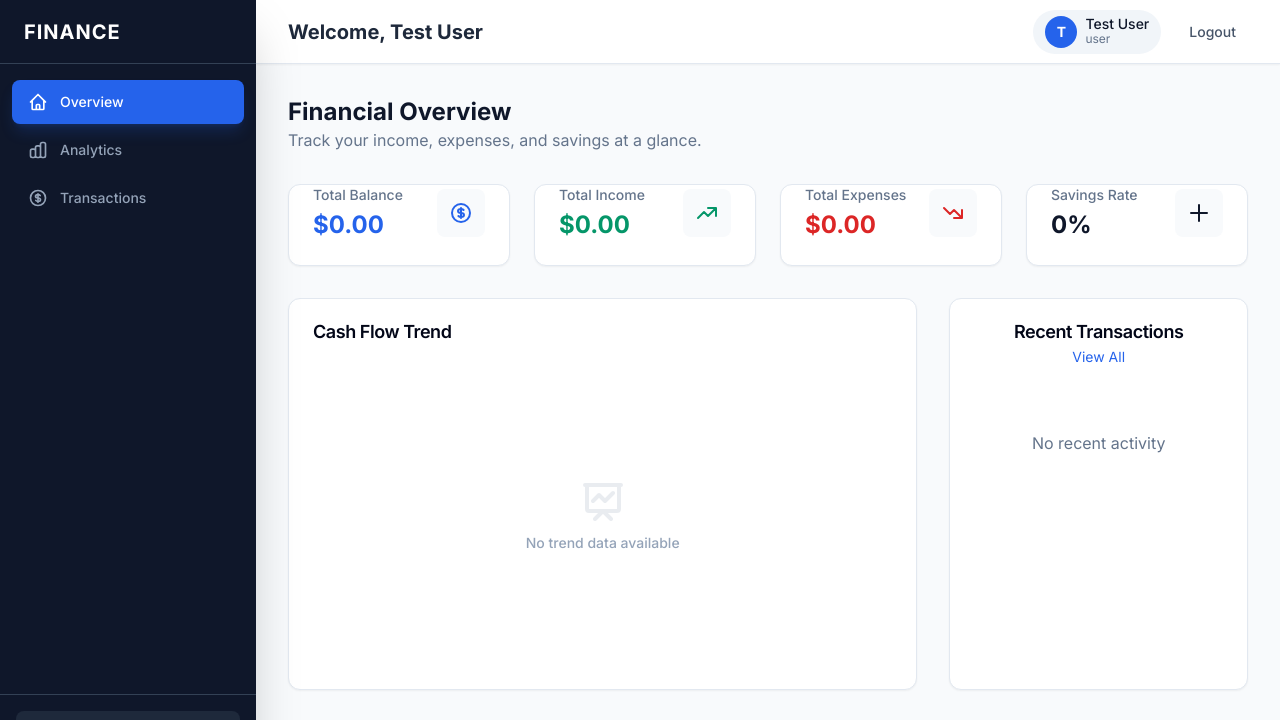
it: Authentication Flow Integration Tests › should handle logout correctly
Expected: the heading "Financial Overview" is shown, [288,97,511,126]
# Find and click logout button
Click the button "Logout".
click(1213, 32)  # box [1177,14,1248,50]
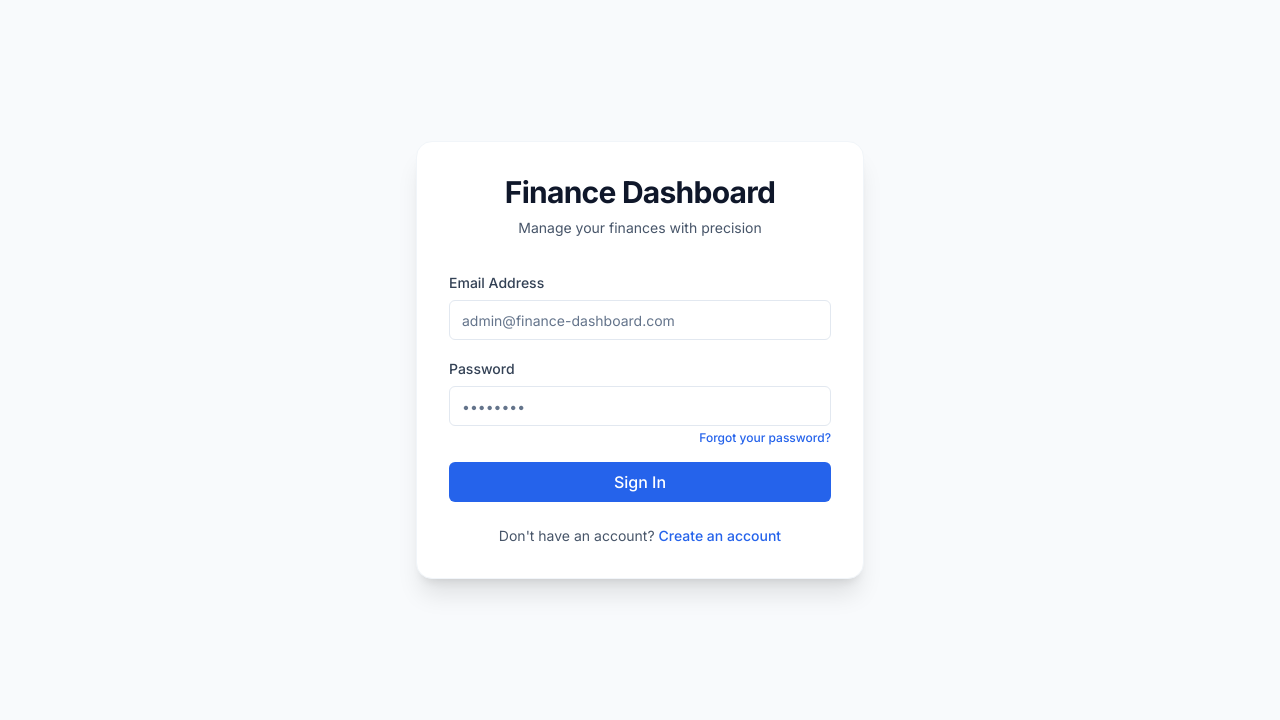
Result: the text "Sign In" is shown at [614,470,666,494]
